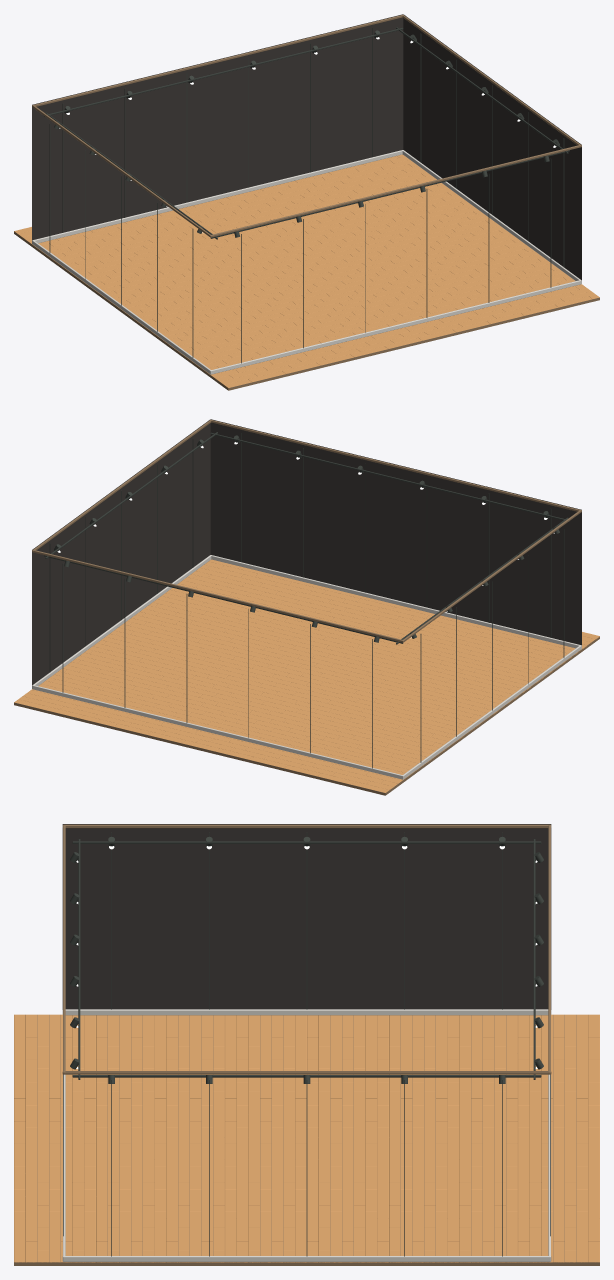
The model's file is gallery-shell-v3.glb.
3 views of the same model, one above another, from view 1: azimuth 30°, elevation 25°; view 2: azimuth 150°, elevation 25°; view 3: azimuth 270°, elevation 25° (orthographic). The views are drawn at different scales.
Visible parts, largest first — view 1: Interior wall surface (×2), Stone skirting (×4), Wall ceiling reveal (×4), Black lighting track (×3), Parquet subfloor; view 2: Interior wall surface (×2), Stone skirting (×4), Wall ceiling reveal (×4), Black lighting track (×3), Parquet subfloor; view 3: Interior wall surface, Parquet subfloor, Stone skirting (×2), Wall ceiling reveal (×4), Black lighting track (×4).
Part boxes in pixels (left/top/right/bottom): Interior wall surface (×2): left=32, top=14, right=581, bottom=280; Stone skirting (×4): left=32, top=150, right=581, bottom=374; Wall ceiling reveal (×4): left=32, top=14, right=581, bottom=237; Black lighting track (×3): left=44, top=27, right=569, bottom=238; Parquet subfloor: left=14, top=196, right=599, bottom=390; Interior wall surface (×2): left=32, top=419, right=581, bottom=685; Stone skirting (×4): left=32, top=555, right=581, bottom=779; Wall ceiling reveal (×4): left=32, top=419, right=581, bottom=642; Black lighting track (×3): left=44, top=432, right=569, bottom=643; Parquet subfloor: left=14, top=601, right=599, bottom=795; Interior wall surface: left=62, top=824, right=551, bottom=1009; Parquet subfloor: left=14, top=1015, right=599, bottom=1265; Stone skirting (×2): left=62, top=1009, right=551, bottom=1261; Wall ceiling reveal (×4): left=62, top=824, right=551, bottom=1074; Black lighting track (×4): left=72, top=839, right=541, bottom=1079.
Size of the model in its own units: 12 by 4.39 by 12.
